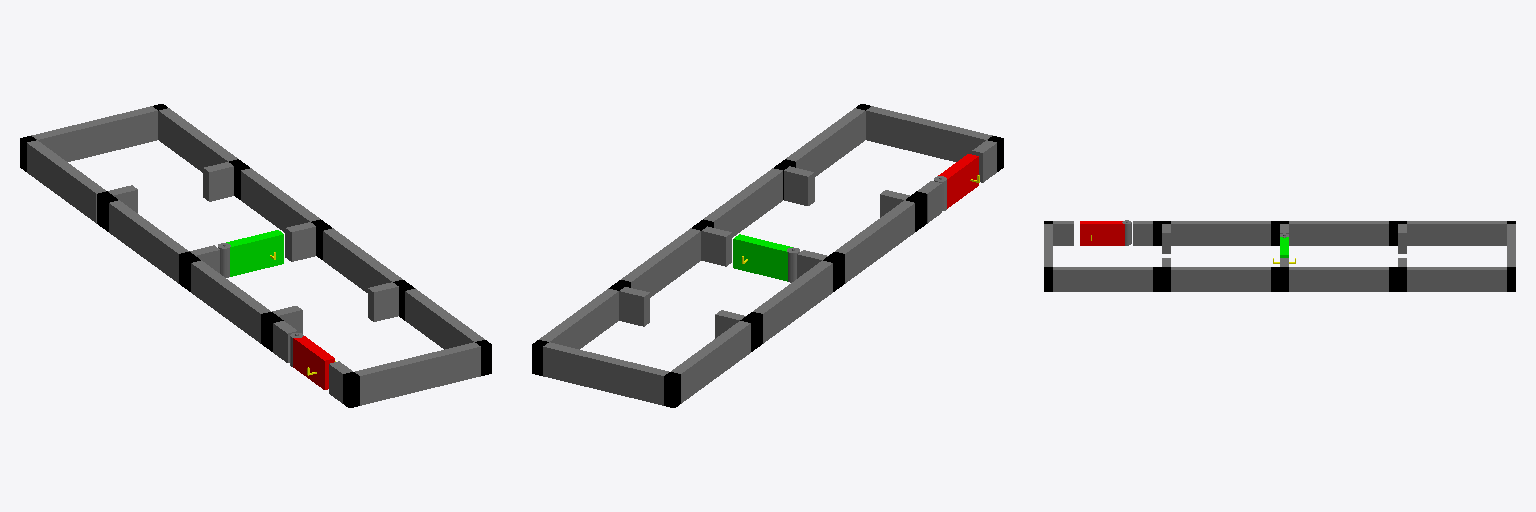
--- Render facts (derived) ---
3 views of the same robot in one strip: view 1: azimuth 30°, elevation 25°; view 2: azimuth 150°, elevation 25°; view 3: azimuth 270°, elevation 25° (orthographic).
Robot: rooms0 — 48 links, 47 joints (2 revolute, 45 fixed); root link base_link; default pose: all joints at 0.
Links seen in each view (by area): view 1: link_fixed_43_wall_(0.0, -3.4625), link_fixed_8_wall_(0.0, 0.4625), link_fixed_10_wall_(-0.4625, -1.0), link_fixed_1_wall_(-0.4625, 0.0), link_fixed_25_wall_(-0.4625, -2.0), link_fixed_6_wall_(0.4625, 0.0), link_fixed_30_wall_(0.4625, -2.0), link_fixed_22_wall_(0.4625, -1.0), link_fixed_45_wall_(0.4625, -3.0), link_fixed_16_door_panel, link_fixed_37_door_panel, link_fixed_28_wall_(0.3375, -2.4625) (+5 smaller); view 2: link_fixed_8_wall_(0.0, 0.4625), link_fixed_43_wall_(0.0, -3.4625), link_fixed_25_wall_(-0.4625, -2.0), link_fixed_10_wall_(-0.4625, -1.0), link_fixed_1_wall_(-0.4625, 0.0), link_fixed_45_wall_(0.4625, -3.0), link_fixed_22_wall_(0.4625, -1.0), link_fixed_30_wall_(0.4625, -2.0), link_fixed_6_wall_(0.4625, 0.0), link_fixed_16_door_panel, link_fixed_37_door_panel, link_fixed_13_wall_(0.3375, -1.4625) (+5 smaller); view 3: link_fixed_10_wall_(-0.4625, -1.0), link_fixed_1_wall_(-0.4625, 0.0), link_fixed_22_wall_(0.4625, -1.0), link_fixed_25_wall_(-0.4625, -2.0), link_fixed_30_wall_(0.4625, -2.0), link_fixed_45_wall_(0.4625, -3.0), link_fixed_6_wall_(0.4625, 0.0), link_fixed_37_door_panel, link_fixed_33_wall_(-0.4625, -3.3375).
Link boxes in pixels (x1,y1,x2,y2): link_fixed_43_wall_(0.0, -3.4625): (355,342,480,405); link_fixed_8_wall_(0.0, 0.4625): (31,106,157,161); link_fixed_10_wall_(-0.4625, -1.0): (109,200,188,283); link_fixed_1_wall_(-0.4625, 0.0): (27,140,105,223); link_fixed_25_wall_(-0.4625, -2.0): (191,260,270,343); link_fixed_6_wall_(0.4625, 0.0): (158,108,237,172); link_fixed_30_wall_(0.4625, -2.0): (323,228,402,292); link_fixed_22_wall_(0.4625, -1.0): (241,168,319,232); link_fixed_45_wall_(0.4625, -3.0): (405,288,484,349); link_fixed_16_door_panel: (226,230,283,276); link_fixed_37_door_panel: (293,336,334,389); link_fixed_28_wall_(0.3375, -2.4625): (368,282,398,321); link_fixed_8_wall_(0.0, 0.4625): (543,342,668,405); link_fixed_43_wall_(0.0, -3.4625): (866,106,992,161); link_fixed_25_wall_(-0.4625, -2.0): (835,200,914,283); link_fixed_10_wall_(-0.4625, -1.0): (753,260,832,343); link_fixed_1_wall_(-0.4625, 0.0): (671,321,750,403); link_fixed_45_wall_(0.4625, -3.0): (786,108,865,176); link_fixed_22_wall_(0.4625, -1.0): (621,228,700,297); link_fixed_30_wall_(0.4625, -2.0): (704,168,782,237); link_fixed_6_wall_(0.4625, 0.0): (539,288,618,349); link_fixed_16_door_panel: (733,234,792,281); link_fixed_37_door_panel: (938,154,978,208); link_fixed_13_wall_(0.3375, -1.4625): (701,226,731,266); link_fixed_10_wall_(-0.4625, -1.0): (1289,221,1388,245); link_fixed_1_wall_(-0.4625, 0.0): (1407,221,1506,245); link_fixed_22_wall_(0.4625, -1.0): (1289,267,1388,291); link_fixed_25_wall_(-0.4625, -2.0): (1171,221,1270,245); link_fixed_30_wall_(0.4625, -2.0): (1171,267,1270,291); link_fixed_45_wall_(0.4625, -3.0): (1053,267,1152,291); link_fixed_6_wall_(0.4625, 0.0): (1407,267,1506,291); link_fixed_37_door_panel: (1080,221,1124,245); link_fixed_33_wall_(-0.4625, -3.3375): (1053,221,1073,245).
Size in the robot's own frame: 4.24 by 16 by 0.879 metres.
Geometry: primitives only (box / cylinder / sphere), no mesh files.

The robot description file, URDF, robot "rooms0":
<?xml version="1.0"?>
<!-- created with Phobos 1.0.1 "Capricious Choutengan" -->
  <robot name="rooms0">

    <link name="base_link">
    </link>

    <link name="link_0_joint_0">
      <visual name="visual_cylinder_14_link_0">
        <origin xyz="0 0 0" rpy="0 0 0"/>
        <geometry>
          <cylinder radius="0.1645" length="0.799"/>
        </geometry>
        <material name="gray"/>
      </visual>
      <collision name="collision_cylinder_14_link_0">
        <origin xyz="0 0 0" rpy="0 0 0"/>
        <geometry>
          <cylinder radius="0.1645" length="0.799"/>
        </geometry>
      </collision>
    </link>

    <link name="link_1_joint_0">
      <visual name="visual_cylinder_35_link_1">
        <origin xyz="0 0 0" rpy="0 0 0"/>
        <geometry>
          <cylinder radius="0.1645" length="0.799"/>
        </geometry>
        <material name="gray"/>
      </visual>
      <collision name="collision_cylinder_35_link_1">
        <origin xyz="0 0 0" rpy="0 0 0"/>
        <geometry>
          <cylinder radius="0.1645" length="0.799"/>
        </geometry>
      </collision>
    </link>

    <link name="link_fixed_0_pillar_(-0.4625, -0.4625)">
      <visual name="visual_box_fixed_0_pillar_(-0.4625, -0.4625)">
        <origin xyz="0 0 0" rpy="0 0 0"/>
        <geometry>
          <box size="0.299 0.299 0.799"/>
        </geometry>
        <material name="black"/>
      </visual>
      <collision name="collision_box_fixed_0_pillar_(-0.4625, -0.4625)">
        <origin xyz="0 0 0" rpy="0 0 0"/>
        <geometry>
          <box size="0.299 0.299 0.799"/>
        </geometry>
      </collision>
    </link>

    <link name="link_fixed_10_wall_(-0.4625, -1.0)">
      <visual name="visual_box_fixed_10_wall_(-0.4625, -1.0)">
        <origin xyz="0 0 0" rpy="0 0 0"/>
        <geometry>
          <box size="0.299 3.399 0.799"/>
        </geometry>
        <material name="gray"/>
      </visual>
      <collision name="collision_box_fixed_10_wall_(-0.4625, -1.0)">
        <origin xyz="0 0 0" rpy="0 0 0"/>
        <geometry>
          <box size="0.299 3.399 0.799"/>
        </geometry>
      </collision>
    </link>

    <link name="link_fixed_11_pillar_(0.4625, -1.4625)">
      <visual name="visual_box_fixed_11_pillar_(0.4625, -1.4625)">
        <origin xyz="0 0 0" rpy="0 0 0"/>
        <geometry>
          <box size="0.299 0.299 0.799"/>
        </geometry>
        <material name="black"/>
      </visual>
      <collision name="collision_box_fixed_11_pillar_(0.4625, -1.4625)">
        <origin xyz="0 0 0" rpy="0 0 0"/>
        <geometry>
          <box size="0.299 0.299 0.799"/>
        </geometry>
      </collision>
    </link>

    <link name="link_fixed_12_wall_(-0.3375, -1.4625)">
      <visual name="visual_box_fixed_12_wall_(-0.3375, -1.4625)">
        <origin xyz="0 0 0" rpy="0 0 0"/>
        <geometry>
          <box size="0.699 0.299 0.799"/>
        </geometry>
        <material name="gray"/>
      </visual>
      <collision name="collision_box_fixed_12_wall_(-0.3375, -1.4625)">
        <origin xyz="0 0 0" rpy="0 0 0"/>
        <geometry>
          <box size="0.699 0.299 0.799"/>
        </geometry>
      </collision>
    </link>

    <link name="link_fixed_13_wall_(0.3375, -1.4625)">
      <visual name="visual_box_fixed_13_wall_(0.3375, -1.4625)">
        <origin xyz="0 0 0" rpy="0 0 0"/>
        <geometry>
          <box size="0.699 0.299 0.799"/>
        </geometry>
        <material name="gray"/>
      </visual>
      <collision name="collision_box_fixed_13_wall_(0.3375, -1.4625)">
        <origin xyz="0 0 0" rpy="0 0 0"/>
        <geometry>
          <box size="0.699 0.299 0.799"/>
        </geometry>
      </collision>
    </link>

    <link name="link_fixed_15_hinge">
      <visual name="visual_cylinder_fixed_15_hinge">
        <origin xyz="0 0 0" rpy="0 0 0"/>
        <geometry>
          <cylinder radius="0.04075" length="0.879"/>
        </geometry>
        <material name="gray"/>
      </visual>
    </link>

    <link name="link_fixed_16_door_panel">
      <visual name="visual_box_fixed_16_door_panel">
        <origin xyz="0 0 0" rpy="0 0 0"/>
        <geometry>
          <box size="1.599 0.299 0.795"/>
        </geometry>
        <material name="green"/>
      </visual>
      <collision name="collision_box_fixed_16_door_panel">
        <origin xyz="0 0 0" rpy="0 0 0"/>
        <geometry>
          <box size="1.599 0.299 0.795"/>
        </geometry>
      </collision>
    </link>

    <link name="link_fixed_17_door_handle1">
      <visual name="visual_box_fixed_17_door_handle1">
        <origin xyz="0 0 0" rpy="0 0 0"/>
        <geometry>
          <box size="0.039 0.039 0.199"/>
        </geometry>
        <material name="yellow"/>
      </visual>
      <collision name="collision_box_fixed_17_door_handle1">
        <origin xyz="0 0 0" rpy="0 0 0"/>
        <geometry>
          <box size="0.039 0.039 0.199"/>
        </geometry>
      </collision>
    </link>

    <link name="link_fixed_18_door_handle1_connector">
      <visual name="visual_box_fixed_18_door_handle1_connector">
        <origin xyz="0 0 0" rpy="0 0 0"/>
        <geometry>
          <box size="0.039 0.199 0.039"/>
        </geometry>
        <material name="yellow"/>
      </visual>
      <collision name="collision_box_fixed_18_door_handle1_connector">
        <origin xyz="0 0 0" rpy="0 0 0"/>
        <geometry>
          <box size="0.039 0.199 0.039"/>
        </geometry>
      </collision>
    </link>

    <link name="link_fixed_19_door_handle2">
      <visual name="visual_box_fixed_19_door_handle2">
        <origin xyz="0 0 0" rpy="0 0 0"/>
        <geometry>
          <box size="0.039 0.039 0.199"/>
        </geometry>
        <material name="yellow"/>
      </visual>
      <collision name="collision_box_fixed_19_door_handle2">
        <origin xyz="0 0 0" rpy="0 0 0"/>
        <geometry>
          <box size="0.039 0.039 0.199"/>
        </geometry>
      </collision>
    </link>

    <link name="link_fixed_1_wall_(-0.4625, 0.0)">
      <visual name="visual_box_fixed_1_wall_(-0.4625, 0.0)">
        <origin xyz="0 0 0" rpy="0 0 0"/>
        <geometry>
          <box size="0.299 3.399 0.799"/>
        </geometry>
        <material name="gray"/>
      </visual>
      <collision name="collision_box_fixed_1_wall_(-0.4625, 0.0)">
        <origin xyz="0 0 0" rpy="0 0 0"/>
        <geometry>
          <box size="0.299 3.399 0.799"/>
        </geometry>
      </collision>
    </link>

    <link name="link_fixed_20_door_handle2_connector">
      <visual name="visual_box_fixed_20_door_handle2_connector">
        <origin xyz="0 0 0" rpy="0 0 0"/>
        <geometry>
          <box size="0.039 0.199 0.039"/>
        </geometry>
        <material name="yellow"/>
      </visual>
      <collision name="collision_box_fixed_20_door_handle2_connector">
        <origin xyz="0 0 0" rpy="0 0 0"/>
        <geometry>
          <box size="0.039 0.199 0.039"/>
        </geometry>
      </collision>
    </link>

    <link name="link_fixed_21_pillar_(0.4625, -0.5375)">
      <visual name="visual_box_fixed_21_pillar_(0.4625, -0.5375)">
        <origin xyz="0 0 0" rpy="0 0 0"/>
        <geometry>
          <box size="0.299 0.299 0.799"/>
        </geometry>
        <material name="black"/>
      </visual>
      <collision name="collision_box_fixed_21_pillar_(0.4625, -0.5375)">
        <origin xyz="0 0 0" rpy="0 0 0"/>
        <geometry>
          <box size="0.299 0.299 0.799"/>
        </geometry>
      </collision>
    </link>

    <link name="link_fixed_22_wall_(0.4625, -1.0)">
      <visual name="visual_box_fixed_22_wall_(0.4625, -1.0)">
        <origin xyz="0 0 0" rpy="0 0 0"/>
        <geometry>
          <box size="0.299 3.399 0.799"/>
        </geometry>
        <material name="gray"/>
      </visual>
      <collision name="collision_box_fixed_22_wall_(0.4625, -1.0)">
        <origin xyz="0 0 0" rpy="0 0 0"/>
        <geometry>
          <box size="0.299 3.399 0.799"/>
        </geometry>
      </collision>
    </link>

    <link name="link_fixed_23_pillar_(-0.4625, -0.5375)">
      <visual name="visual_box_fixed_23_pillar_(-0.4625, -0.5375)">
        <origin xyz="0 0 0" rpy="0 0 0"/>
        <geometry>
          <box size="0.299 0.299 0.799"/>
        </geometry>
        <material name="black"/>
      </visual>
      <collision name="collision_box_fixed_23_pillar_(-0.4625, -0.5375)">
        <origin xyz="0 0 0" rpy="0 0 0"/>
        <geometry>
          <box size="0.299 0.299 0.799"/>
        </geometry>
      </collision>
    </link>

    <link name="link_fixed_24_pillar_(-0.4625, -2.4625)">
      <visual name="visual_box_fixed_24_pillar_(-0.4625, -2.4625)">
        <origin xyz="0 0 0" rpy="0 0 0"/>
        <geometry>
          <box size="0.299 0.299 0.799"/>
        </geometry>
        <material name="black"/>
      </visual>
      <collision name="collision_box_fixed_24_pillar_(-0.4625, -2.4625)">
        <origin xyz="0 0 0" rpy="0 0 0"/>
        <geometry>
          <box size="0.299 0.299 0.799"/>
        </geometry>
      </collision>
    </link>

    <link name="link_fixed_25_wall_(-0.4625, -2.0)">
      <visual name="visual_box_fixed_25_wall_(-0.4625, -2.0)">
        <origin xyz="0 0 0" rpy="0 0 0"/>
        <geometry>
          <box size="0.299 3.399 0.799"/>
        </geometry>
        <material name="gray"/>
      </visual>
      <collision name="collision_box_fixed_25_wall_(-0.4625, -2.0)">
        <origin xyz="0 0 0" rpy="0 0 0"/>
        <geometry>
          <box size="0.299 3.399 0.799"/>
        </geometry>
      </collision>
    </link>

    <link name="link_fixed_26_pillar_(0.4625, -2.4625)">
      <visual name="visual_box_fixed_26_pillar_(0.4625, -2.4625)">
        <origin xyz="0 0 0" rpy="0 0 0"/>
        <geometry>
          <box size="0.299 0.299 0.799"/>
        </geometry>
        <material name="black"/>
      </visual>
      <collision name="collision_box_fixed_26_pillar_(0.4625, -2.4625)">
        <origin xyz="0 0 0" rpy="0 0 0"/>
        <geometry>
          <box size="0.299 0.299 0.799"/>
        </geometry>
      </collision>
    </link>

    <link name="link_fixed_27_wall_(-0.3375, -2.4625)">
      <visual name="visual_box_fixed_27_wall_(-0.3375, -2.4625)">
        <origin xyz="0 0 0" rpy="0 0 0"/>
        <geometry>
          <box size="0.699 0.299 0.799"/>
        </geometry>
        <material name="gray"/>
      </visual>
      <collision name="collision_box_fixed_27_wall_(-0.3375, -2.4625)">
        <origin xyz="0 0 0" rpy="0 0 0"/>
        <geometry>
          <box size="0.699 0.299 0.799"/>
        </geometry>
      </collision>
    </link>

    <link name="link_fixed_28_wall_(0.3375, -2.4625)">
      <visual name="visual_box_fixed_28_wall_(0.3375, -2.4625)">
        <origin xyz="0 0 0" rpy="0 0 0"/>
        <geometry>
          <box size="0.699 0.299 0.799"/>
        </geometry>
        <material name="gray"/>
      </visual>
      <collision name="collision_box_fixed_28_wall_(0.3375, -2.4625)">
        <origin xyz="0 0 0" rpy="0 0 0"/>
        <geometry>
          <box size="0.699 0.299 0.799"/>
        </geometry>
      </collision>
    </link>

    <link name="link_fixed_29_pillar_(0.4625, -1.5375)">
      <visual name="visual_box_fixed_29_pillar_(0.4625, -1.5375)">
        <origin xyz="0 0 0" rpy="0 0 0"/>
        <geometry>
          <box size="0.299 0.299 0.799"/>
        </geometry>
        <material name="black"/>
      </visual>
      <collision name="collision_box_fixed_29_pillar_(0.4625, -1.5375)">
        <origin xyz="0 0 0" rpy="0 0 0"/>
        <geometry>
          <box size="0.299 0.299 0.799"/>
        </geometry>
      </collision>
    </link>

    <link name="link_fixed_2_pillar_(0.4625, -0.4625)">
      <visual name="visual_box_fixed_2_pillar_(0.4625, -0.4625)">
        <origin xyz="0 0 0" rpy="0 0 0"/>
        <geometry>
          <box size="0.299 0.299 0.799"/>
        </geometry>
        <material name="black"/>
      </visual>
      <collision name="collision_box_fixed_2_pillar_(0.4625, -0.4625)">
        <origin xyz="0 0 0" rpy="0 0 0"/>
        <geometry>
          <box size="0.299 0.299 0.799"/>
        </geometry>
      </collision>
    </link>

    <link name="link_fixed_30_wall_(0.4625, -2.0)">
      <visual name="visual_box_fixed_30_wall_(0.4625, -2.0)">
        <origin xyz="0 0 0" rpy="0 0 0"/>
        <geometry>
          <box size="0.299 3.399 0.799"/>
        </geometry>
        <material name="gray"/>
      </visual>
      <collision name="collision_box_fixed_30_wall_(0.4625, -2.0)">
        <origin xyz="0 0 0" rpy="0 0 0"/>
        <geometry>
          <box size="0.299 3.399 0.799"/>
        </geometry>
      </collision>
    </link>

    <link name="link_fixed_31_pillar_(-0.4625, -1.5375)">
      <visual name="visual_box_fixed_31_pillar_(-0.4625, -1.5375)">
        <origin xyz="0 0 0" rpy="0 0 0"/>
        <geometry>
          <box size="0.299 0.299 0.799"/>
        </geometry>
        <material name="black"/>
      </visual>
      <collision name="collision_box_fixed_31_pillar_(-0.4625, -1.5375)">
        <origin xyz="0 0 0" rpy="0 0 0"/>
        <geometry>
          <box size="0.299 0.299 0.799"/>
        </geometry>
      </collision>
    </link>

    <link name="link_fixed_32_pillar_(-0.4625, -3.4625)">
      <visual name="visual_box_fixed_32_pillar_(-0.4625, -3.4625)">
        <origin xyz="0 0 0" rpy="0 0 0"/>
        <geometry>
          <box size="0.299 0.299 0.799"/>
        </geometry>
        <material name="black"/>
      </visual>
      <collision name="collision_box_fixed_32_pillar_(-0.4625, -3.4625)">
        <origin xyz="0 0 0" rpy="0 0 0"/>
        <geometry>
          <box size="0.299 0.299 0.799"/>
        </geometry>
      </collision>
    </link>

    <link name="link_fixed_33_wall_(-0.4625, -3.3375)">
      <visual name="visual_box_fixed_33_wall_(-0.4625, -3.3375)">
        <origin xyz="0 0 0" rpy="0 0 0"/>
        <geometry>
          <box size="0.299 0.699 0.799"/>
        </geometry>
        <material name="gray"/>
      </visual>
      <collision name="collision_box_fixed_33_wall_(-0.4625, -3.3375)">
        <origin xyz="0 0 0" rpy="0 0 0"/>
        <geometry>
          <box size="0.299 0.699 0.799"/>
        </geometry>
      </collision>
    </link>

    <link name="link_fixed_34_wall_(-0.4625, -2.6625)">
      <visual name="visual_box_fixed_34_wall_(-0.4625, -2.6625)">
        <origin xyz="0 0 0" rpy="0 0 0"/>
        <geometry>
          <box size="0.299 0.699 0.799"/>
        </geometry>
        <material name="gray"/>
      </visual>
      <collision name="collision_box_fixed_34_wall_(-0.4625, -2.6625)">
        <origin xyz="0 0 0" rpy="0 0 0"/>
        <geometry>
          <box size="0.299 0.699 0.799"/>
        </geometry>
      </collision>
    </link>

    <link name="link_fixed_36_hinge">
      <visual name="visual_cylinder_fixed_36_hinge">
        <origin xyz="0 0 0" rpy="0 0 0"/>
        <geometry>
          <cylinder radius="0.04075" length="0.879"/>
        </geometry>
        <material name="gray"/>
      </visual>
    </link>

    <link name="link_fixed_37_door_panel">
      <visual name="visual_box_fixed_37_door_panel">
        <origin xyz="0 0 0" rpy="0 0 0"/>
        <geometry>
          <box size="1.599 0.299 0.795"/>
        </geometry>
        <material name="red"/>
      </visual>
      <collision name="collision_box_fixed_37_door_panel">
        <origin xyz="0 0 0" rpy="0 0 0"/>
        <geometry>
          <box size="1.599 0.299 0.795"/>
        </geometry>
      </collision>
    </link>

    <link name="link_fixed_38_door_handle1">
      <visual name="visual_box_fixed_38_door_handle1">
        <origin xyz="0 0 0" rpy="0 0 0"/>
        <geometry>
          <box size="0.039 0.039 0.199"/>
        </geometry>
        <material name="yellow"/>
      </visual>
      <collision name="collision_box_fixed_38_door_handle1">
        <origin xyz="0 0 0" rpy="0 0 0"/>
        <geometry>
          <box size="0.039 0.039 0.199"/>
        </geometry>
      </collision>
    </link>

    <link name="link_fixed_39_door_handle1_connector">
      <visual name="visual_box_fixed_39_door_handle1_connector">
        <origin xyz="0 0 0" rpy="0 0 0"/>
        <geometry>
          <box size="0.039 0.199 0.039"/>
        </geometry>
        <material name="yellow"/>
      </visual>
      <collision name="collision_box_fixed_39_door_handle1_connector">
        <origin xyz="0 0 0" rpy="0 0 0"/>
        <geometry>
          <box size="0.039 0.199 0.039"/>
        </geometry>
      </collision>
    </link>

    <link name="link_fixed_3_wall_(-0.3375, -0.4625)">
      <visual name="visual_box_fixed_3_wall_(-0.3375, -0.4625)">
        <origin xyz="0 0 0" rpy="0 0 0"/>
        <geometry>
          <box size="0.699 0.299 0.799"/>
        </geometry>
        <material name="gray"/>
      </visual>
      <collision name="collision_box_fixed_3_wall_(-0.3375, -0.4625)">
        <origin xyz="0 0 0" rpy="0 0 0"/>
        <geometry>
          <box size="0.699 0.299 0.799"/>
        </geometry>
      </collision>
    </link>

    <link name="link_fixed_40_door_handle2">
      <visual name="visual_box_fixed_40_door_handle2">
        <origin xyz="0 0 0" rpy="0 0 0"/>
        <geometry>
          <box size="0.039 0.039 0.199"/>
        </geometry>
        <material name="yellow"/>
      </visual>
      <collision name="collision_box_fixed_40_door_handle2">
        <origin xyz="0 0 0" rpy="0 0 0"/>
        <geometry>
          <box size="0.039 0.039 0.199"/>
        </geometry>
      </collision>
    </link>

    <link name="link_fixed_41_door_handle2_connector">
      <visual name="visual_box_fixed_41_door_handle2_connector">
        <origin xyz="0 0 0" rpy="0 0 0"/>
        <geometry>
          <box size="0.039 0.199 0.039"/>
        </geometry>
        <material name="yellow"/>
      </visual>
      <collision name="collision_box_fixed_41_door_handle2_connector">
        <origin xyz="0 0 0" rpy="0 0 0"/>
        <geometry>
          <box size="0.039 0.199 0.039"/>
        </geometry>
      </collision>
    </link>

    <link name="link_fixed_42_pillar_(0.4625, -3.4625)">
      <visual name="visual_box_fixed_42_pillar_(0.4625, -3.4625)">
        <origin xyz="0 0 0" rpy="0 0 0"/>
        <geometry>
          <box size="0.299 0.299 0.799"/>
        </geometry>
        <material name="black"/>
      </visual>
      <collision name="collision_box_fixed_42_pillar_(0.4625, -3.4625)">
        <origin xyz="0 0 0" rpy="0 0 0"/>
        <geometry>
          <box size="0.299 0.299 0.799"/>
        </geometry>
      </collision>
    </link>

    <link name="link_fixed_43_wall_(0.0, -3.4625)">
      <visual name="visual_box_fixed_43_wall_(0.0, -3.4625)">
        <origin xyz="0 0 0" rpy="0 0 0"/>
        <geometry>
          <box size="3.399 0.299 0.799"/>
        </geometry>
        <material name="gray"/>
      </visual>
      <collision name="collision_box_fixed_43_wall_(0.0, -3.4625)">
        <origin xyz="0 0 0" rpy="0 0 0"/>
        <geometry>
          <box size="3.399 0.299 0.799"/>
        </geometry>
      </collision>
    </link>

    <link name="link_fixed_44_pillar_(0.4625, -2.5375)">
      <visual name="visual_box_fixed_44_pillar_(0.4625, -2.5375)">
        <origin xyz="0 0 0" rpy="0 0 0"/>
        <geometry>
          <box size="0.299 0.299 0.799"/>
        </geometry>
        <material name="black"/>
      </visual>
      <collision name="collision_box_fixed_44_pillar_(0.4625, -2.5375)">
        <origin xyz="0 0 0" rpy="0 0 0"/>
        <geometry>
          <box size="0.299 0.299 0.799"/>
        </geometry>
      </collision>
    </link>

    <link name="link_fixed_45_wall_(0.4625, -3.0)">
      <visual name="visual_box_fixed_45_wall_(0.4625, -3.0)">
        <origin xyz="0 0 0" rpy="0 0 0"/>
        <geometry>
          <box size="0.299 3.399 0.799"/>
        </geometry>
        <material name="gray"/>
      </visual>
      <collision name="collision_box_fixed_45_wall_(0.4625, -3.0)">
        <origin xyz="0 0 0" rpy="0 0 0"/>
        <geometry>
          <box size="0.299 3.399 0.799"/>
        </geometry>
      </collision>
    </link>

    <link name="link_fixed_46_pillar_(-0.4625, -2.5375)">
      <visual name="visual_box_fixed_46_pillar_(-0.4625, -2.5375)">
        <origin xyz="0 0 0" rpy="0 0 0"/>
        <geometry>
          <box size="0.299 0.299 0.799"/>
        </geometry>
        <material name="black"/>
      </visual>
      <collision name="collision_box_fixed_46_pillar_(-0.4625, -2.5375)">
        <origin xyz="0 0 0" rpy="0 0 0"/>
        <geometry>
          <box size="0.299 0.299 0.799"/>
        </geometry>
      </collision>
    </link>

    <link name="link_fixed_4_wall_(0.3375, -0.4625)">
      <visual name="visual_box_fixed_4_wall_(0.3375, -0.4625)">
        <origin xyz="0 0 0" rpy="0 0 0"/>
        <geometry>
          <box size="0.699 0.299 0.799"/>
        </geometry>
        <material name="gray"/>
      </visual>
      <collision name="collision_box_fixed_4_wall_(0.3375, -0.4625)">
        <origin xyz="0 0 0" rpy="0 0 0"/>
        <geometry>
          <box size="0.699 0.299 0.799"/>
        </geometry>
      </collision>
    </link>

    <link name="link_fixed_5_pillar_(0.4625, 0.4625)">
      <visual name="visual_box_fixed_5_pillar_(0.4625, 0.4625)">
        <origin xyz="0 0 0" rpy="0 0 0"/>
        <geometry>
          <box size="0.299 0.299 0.799"/>
        </geometry>
        <material name="black"/>
      </visual>
      <collision name="collision_box_fixed_5_pillar_(0.4625, 0.4625)">
        <origin xyz="0 0 0" rpy="0 0 0"/>
        <geometry>
          <box size="0.299 0.299 0.799"/>
        </geometry>
      </collision>
    </link>

    <link name="link_fixed_6_wall_(0.4625, 0.0)">
      <visual name="visual_box_fixed_6_wall_(0.4625, 0.0)">
        <origin xyz="0 0 0" rpy="0 0 0"/>
        <geometry>
          <box size="0.299 3.399 0.799"/>
        </geometry>
        <material name="gray"/>
      </visual>
      <collision name="collision_box_fixed_6_wall_(0.4625, 0.0)">
        <origin xyz="0 0 0" rpy="0 0 0"/>
        <geometry>
          <box size="0.299 3.399 0.799"/>
        </geometry>
      </collision>
    </link>

    <link name="link_fixed_7_pillar_(-0.4625, 0.4625)">
      <visual name="visual_box_fixed_7_pillar_(-0.4625, 0.4625)">
        <origin xyz="0 0 0" rpy="0 0 0"/>
        <geometry>
          <box size="0.299 0.299 0.799"/>
        </geometry>
        <material name="black"/>
      </visual>
      <collision name="collision_box_fixed_7_pillar_(-0.4625, 0.4625)">
        <origin xyz="0 0 0" rpy="0 0 0"/>
        <geometry>
          <box size="0.299 0.299 0.799"/>
        </geometry>
      </collision>
    </link>

    <link name="link_fixed_8_wall_(0.0, 0.4625)">
      <visual name="visual_box_fixed_8_wall_(0.0, 0.4625)">
        <origin xyz="0 0 0" rpy="0 0 0"/>
        <geometry>
          <box size="3.399 0.299 0.799"/>
        </geometry>
        <material name="gray"/>
      </visual>
      <collision name="collision_box_fixed_8_wall_(0.0, 0.4625)">
        <origin xyz="0 0 0" rpy="0 0 0"/>
        <geometry>
          <box size="3.399 0.299 0.799"/>
        </geometry>
      </collision>
    </link>

    <link name="link_fixed_9_pillar_(-0.4625, -1.4625)">
      <visual name="visual_box_fixed_9_pillar_(-0.4625, -1.4625)">
        <origin xyz="0 0 0" rpy="0 0 0"/>
        <geometry>
          <box size="0.299 0.299 0.799"/>
        </geometry>
        <material name="black"/>
      </visual>
      <collision name="collision_box_fixed_9_pillar_(-0.4625, -1.4625)">
        <origin xyz="0 0 0" rpy="0 0 0"/>
        <geometry>
          <box size="0.299 0.299 0.799"/>
        </geometry>
      </collision>
    </link>

    <joint name="link_0_joint_0" type="revolute">
      <origin xyz="-0.8 -5.85 0.4" rpy="0 0 0"/>
      <parent link="base_link"/>
      <child link="link_0_joint_0"/>
      <axis xyz="0 0 1.0"/>
      <limit lower="0" upper="1.5708" effort="0" velocity="0"/>
    </joint>

    <joint name="link_1_joint_0" type="revolute">
      <origin xyz="-1.85 -11.2 0.4" rpy="0 0 -1.5708"/>
      <parent link="base_link"/>
      <child link="link_1_joint_0"/>
      <axis xyz="0 0 1.0"/>
      <limit lower="0" upper="1.5708" effort="0" velocity="0"/>
    </joint>

    <joint name="link_fixed_0_pillar_(-0.4625, -0.4625)" type="fixed">
      <origin xyz="-1.85 -1.85 0.4" rpy="0 0 0"/>
      <parent link="base_link"/>
      <child link="link_fixed_0_pillar_(-0.4625, -0.4625)"/>
    </joint>

    <joint name="link_fixed_10_wall_(-0.4625, -1.0)" type="fixed">
      <origin xyz="-1.85 -4.0 0.4" rpy="0 0 0"/>
      <parent link="base_link"/>
      <child link="link_fixed_10_wall_(-0.4625, -1.0)"/>
    </joint>

    <joint name="link_fixed_11_pillar_(0.4625, -1.4625)" type="fixed">
      <origin xyz="1.85 -5.85 0.4" rpy="0 0 0"/>
      <parent link="base_link"/>
      <child link="link_fixed_11_pillar_(0.4625, -1.4625)"/>
    </joint>

    <joint name="link_fixed_12_wall_(-0.3375, -1.4625)" type="fixed">
      <origin xyz="-1.35 -5.85 0.4" rpy="0 0 0"/>
      <parent link="base_link"/>
      <child link="link_fixed_12_wall_(-0.3375, -1.4625)"/>
    </joint>

    <joint name="link_fixed_13_wall_(0.3375, -1.4625)" type="fixed">
      <origin xyz="1.35 -5.85 0.4" rpy="0 0 0"/>
      <parent link="base_link"/>
      <child link="link_fixed_13_wall_(0.3375, -1.4625)"/>
    </joint>

    <joint name="link_fixed_15_hinge" type="fixed">
      <origin xyz="0 0 0" rpy="0 0 0"/>
      <parent link="link_0_joint_0"/>
      <child link="link_fixed_15_hinge"/>
    </joint>

    <joint name="link_fixed_16_door_panel" type="fixed">
      <origin xyz="0.8 0 0" rpy="0 0 0"/>
      <parent link="link_0_joint_0"/>
      <child link="link_fixed_16_door_panel"/>
    </joint>

    <joint name="link_fixed_17_door_handle1" type="fixed">
      <origin xyz="1.2 0.37 0" rpy="0 0 0"/>
      <parent link="link_0_joint_0"/>
      <child link="link_fixed_17_door_handle1"/>
    </joint>

    <joint name="link_fixed_18_door_handle1_connector" type="fixed">
      <origin xyz="1.2 0.25 -0.08" rpy="0 0 0"/>
      <parent link="link_0_joint_0"/>
      <child link="link_fixed_18_door_handle1_connector"/>
    </joint>

    <joint name="link_fixed_19_door_handle2" type="fixed">
      <origin xyz="1.2 -0.37 0" rpy="0 0 0"/>
      <parent link="link_0_joint_0"/>
      <child link="link_fixed_19_door_handle2"/>
    </joint>

    <joint name="link_fixed_1_wall_(-0.4625, 0.0)" type="fixed">
      <origin xyz="-1.85 0 0.4" rpy="0 0 0"/>
      <parent link="base_link"/>
      <child link="link_fixed_1_wall_(-0.4625, 0.0)"/>
    </joint>

    <joint name="link_fixed_20_door_handle2_connector" type="fixed">
      <origin xyz="1.2 -0.25 -0.08" rpy="0 0 0"/>
      <parent link="link_0_joint_0"/>
      <child link="link_fixed_20_door_handle2_connector"/>
    </joint>

    <joint name="link_fixed_21_pillar_(0.4625, -0.5375)" type="fixed">
      <origin xyz="1.85 -2.15 0.4" rpy="0 0 0"/>
      <parent link="base_link"/>
      <child link="link_fixed_21_pillar_(0.4625, -0.5375)"/>
    </joint>

    <joint name="link_fixed_22_wall_(0.4625, -1.0)" type="fixed">
      <origin xyz="1.85 -4.0 0.4" rpy="0 0 0"/>
      <parent link="base_link"/>
      <child link="link_fixed_22_wall_(0.4625, -1.0)"/>
    </joint>

    <joint name="link_fixed_23_pillar_(-0.4625, -0.5375)" type="fixed">
      <origin xyz="-1.85 -2.15 0.4" rpy="0 0 0"/>
      <parent link="base_link"/>
      <child link="link_fixed_23_pillar_(-0.4625, -0.5375)"/>
    </joint>

    <joint name="link_fixed_24_pillar_(-0.4625, -2.4625)" type="fixed">
      <origin xyz="-1.85 -9.85 0.4" rpy="0 0 0"/>
      <parent link="base_link"/>
      <child link="link_fixed_24_pillar_(-0.4625, -2.4625)"/>
    </joint>

    <joint name="link_fixed_25_wall_(-0.4625, -2.0)" type="fixed">
      <origin xyz="-1.85 -8.0 0.4" rpy="0 0 0"/>
      <parent link="base_link"/>
      <child link="link_fixed_25_wall_(-0.4625, -2.0)"/>
    </joint>

    <joint name="link_fixed_26_pillar_(0.4625, -2.4625)" type="fixed">
      <origin xyz="1.85 -9.85 0.4" rpy="0 0 0"/>
      <parent link="base_link"/>
      <child link="link_fixed_26_pillar_(0.4625, -2.4625)"/>
    </joint>

    <joint name="link_fixed_27_wall_(-0.3375, -2.4625)" type="fixed">
      <origin xyz="-1.35 -9.85 0.4" rpy="0 0 0"/>
      <parent link="base_link"/>
      <child link="link_fixed_27_wall_(-0.3375, -2.4625)"/>
    </joint>

    <joint name="link_fixed_28_wall_(0.3375, -2.4625)" type="fixed">
      <origin xyz="1.35 -9.85 0.4" rpy="0 0 0"/>
      <parent link="base_link"/>
      <child link="link_fixed_28_wall_(0.3375, -2.4625)"/>
    </joint>

    <joint name="link_fixed_29_pillar_(0.4625, -1.5375)" type="fixed">
      <origin xyz="1.85 -6.15 0.4" rpy="0 0 0"/>
      <parent link="base_link"/>
      <child link="link_fixed_29_pillar_(0.4625, -1.5375)"/>
    </joint>

    <joint name="link_fixed_2_pillar_(0.4625, -0.4625)" type="fixed">
      <origin xyz="1.85 -1.85 0.4" rpy="0 0 0"/>
      <parent link="base_link"/>
      <child link="link_fixed_2_pillar_(0.4625, -0.4625)"/>
    </joint>

    <joint name="link_fixed_30_wall_(0.4625, -2.0)" type="fixed">
      <origin xyz="1.85 -8.0 0.4" rpy="0 0 0"/>
      <parent link="base_link"/>
      <child link="link_fixed_30_wall_(0.4625, -2.0)"/>
    </joint>

    <joint name="link_fixed_31_pillar_(-0.4625, -1.5375)" type="fixed">
      <origin xyz="-1.85 -6.15 0.4" rpy="0 0 0"/>
      <parent link="base_link"/>
      <child link="link_fixed_31_pillar_(-0.4625, -1.5375)"/>
    </joint>

    <joint name="link_fixed_32_pillar_(-0.4625, -3.4625)" type="fixed">
      <origin xyz="-1.85 -13.85 0.4" rpy="0 0 0"/>
      <parent link="base_link"/>
      <child link="link_fixed_32_pillar_(-0.4625, -3.4625)"/>
    </joint>

    <joint name="link_fixed_33_wall_(-0.4625, -3.3375)" type="fixed">
      <origin xyz="-1.85 -13.35 0.4" rpy="0 0 0"/>
      <parent link="base_link"/>
      <child link="link_fixed_33_wall_(-0.4625, -3.3375)"/>
    </joint>

    <joint name="link_fixed_34_wall_(-0.4625, -2.6625)" type="fixed">
      <origin xyz="-1.85 -10.65 0.4" rpy="0 0 0"/>
      <parent link="base_link"/>
      <child link="link_fixed_34_wall_(-0.4625, -2.6625)"/>
    </joint>

    <joint name="link_fixed_36_hinge" type="fixed">
      <origin xyz="0 0 0" rpy="0 0 0"/>
      <parent link="link_1_joint_0"/>
      <child link="link_fixed_36_hinge"/>
    </joint>

    <joint name="link_fixed_37_door_panel" type="fixed">
      <origin xyz="0.8 0 0" rpy="0 0 0"/>
      <parent link="link_1_joint_0"/>
      <child link="link_fixed_37_door_panel"/>
    </joint>

    <joint name="link_fixed_38_door_handle1" type="fixed">
      <origin xyz="1.2 0.37 0" rpy="0 0 0"/>
      <parent link="link_1_joint_0"/>
      <child link="link_fixed_38_door_handle1"/>
    </joint>

    <joint name="link_fixed_39_door_handle1_connector" type="fixed">
      <origin xyz="1.2 0.25 -0.08" rpy="0 0 0"/>
      <parent link="link_1_joint_0"/>
      <child link="link_fixed_39_door_handle1_connector"/>
    </joint>

    <joint name="link_fixed_3_wall_(-0.3375, -0.4625)" type="fixed">
      <origin xyz="-1.35 -1.85 0.4" rpy="0 0 0"/>
      <parent link="base_link"/>
      <child link="link_fixed_3_wall_(-0.3375, -0.4625)"/>
    </joint>

    <joint name="link_fixed_40_door_handle2" type="fixed">
      <origin xyz="1.2 -0.37 0" rpy="0 0 0"/>
      <parent link="link_1_joint_0"/>
      <child link="link_fixed_40_door_handle2"/>
    </joint>

    <joint name="link_fixed_41_door_handle2_connector" type="fixed">
      <origin xyz="1.2 -0.25 -0.08" rpy="0 0 0"/>
      <parent link="link_1_joint_0"/>
      <child link="link_fixed_41_door_handle2_connector"/>
    </joint>

    <joint name="link_fixed_42_pillar_(0.4625, -3.4625)" type="fixed">
      <origin xyz="1.85 -13.85 0.4" rpy="0 0 0"/>
      <parent link="base_link"/>
      <child link="link_fixed_42_pillar_(0.4625, -3.4625)"/>
    </joint>

    <joint name="link_fixed_43_wall_(0.0, -3.4625)" type="fixed">
      <origin xyz="0 -13.85 0.4" rpy="0 0 0"/>
      <parent link="base_link"/>
      <child link="link_fixed_43_wall_(0.0, -3.4625)"/>
    </joint>

    <joint name="link_fixed_44_pillar_(0.4625, -2.5375)" type="fixed">
      <origin xyz="1.85 -10.15 0.4" rpy="0 0 0"/>
      <parent link="base_link"/>
      <child link="link_fixed_44_pillar_(0.4625, -2.5375)"/>
    </joint>

    <joint name="link_fixed_45_wall_(0.4625, -3.0)" type="fixed">
      <origin xyz="1.85 -12.0 0.4" rpy="0 0 0"/>
      <parent link="base_link"/>
      <child link="link_fixed_45_wall_(0.4625, -3.0)"/>
    </joint>

    <joint name="link_fixed_46_pillar_(-0.4625, -2.5375)" type="fixed">
      <origin xyz="-1.85 -10.15 0.4" rpy="0 0 0"/>
      <parent link="base_link"/>
      <child link="link_fixed_46_pillar_(-0.4625, -2.5375)"/>
    </joint>

    <joint name="link_fixed_4_wall_(0.3375, -0.4625)" type="fixed">
      <origin xyz="1.35 -1.85 0.4" rpy="0 0 0"/>
      <parent link="base_link"/>
      <child link="link_fixed_4_wall_(0.3375, -0.4625)"/>
    </joint>

    <joint name="link_fixed_5_pillar_(0.4625, 0.4625)" type="fixed">
      <origin xyz="1.85 1.85 0.4" rpy="0 0 0"/>
      <parent link="base_link"/>
      <child link="link_fixed_5_pillar_(0.4625, 0.4625)"/>
    </joint>

    <joint name="link_fixed_6_wall_(0.4625, 0.0)" type="fixed">
      <origin xyz="1.85 0 0.4" rpy="0 0 0"/>
      <parent link="base_link"/>
      <child link="link_fixed_6_wall_(0.4625, 0.0)"/>
    </joint>

    <joint name="link_fixed_7_pillar_(-0.4625, 0.4625)" type="fixed">
      <origin xyz="-1.85 1.85 0.4" rpy="0 0 0"/>
      <parent link="base_link"/>
      <child link="link_fixed_7_pillar_(-0.4625, 0.4625)"/>
    </joint>

    <joint name="link_fixed_8_wall_(0.0, 0.4625)" type="fixed">
      <origin xyz="0 1.85 0.4" rpy="0 0 0"/>
      <parent link="base_link"/>
      <child link="link_fixed_8_wall_(0.0, 0.4625)"/>
    </joint>

    <joint name="link_fixed_9_pillar_(-0.4625, -1.4625)" type="fixed">
      <origin xyz="-1.85 -5.85 0.4" rpy="0 0 0"/>
      <parent link="base_link"/>
      <child link="link_fixed_9_pillar_(-0.4625, -1.4625)"/>
    </joint>

    <material name="black">
      <color rgba="0 0 0 1.0"/>
    </material>

    <material name="gray">
      <color rgba="0.5 0.5 0.5 1.0"/>
    </material>

    <material name="green">
      <color rgba="0 1.0 0 1.0"/>
    </material>

    <material name="red">
      <color rgba="1.0 0 0 1.0"/>
    </material>

    <material name="yellow">
      <color rgba="1.0 1.0 0 1.0"/>
    </material>

  </robot>
